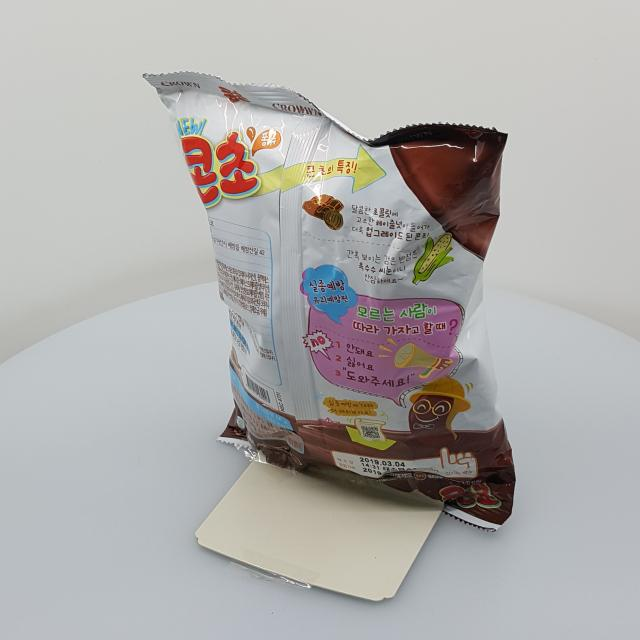-66G: (142, 72, 517, 534)
